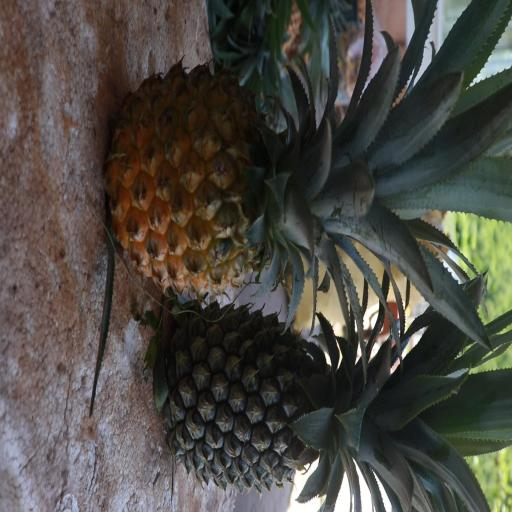Pineapple - v8 v1: (111, 74, 440, 293)
